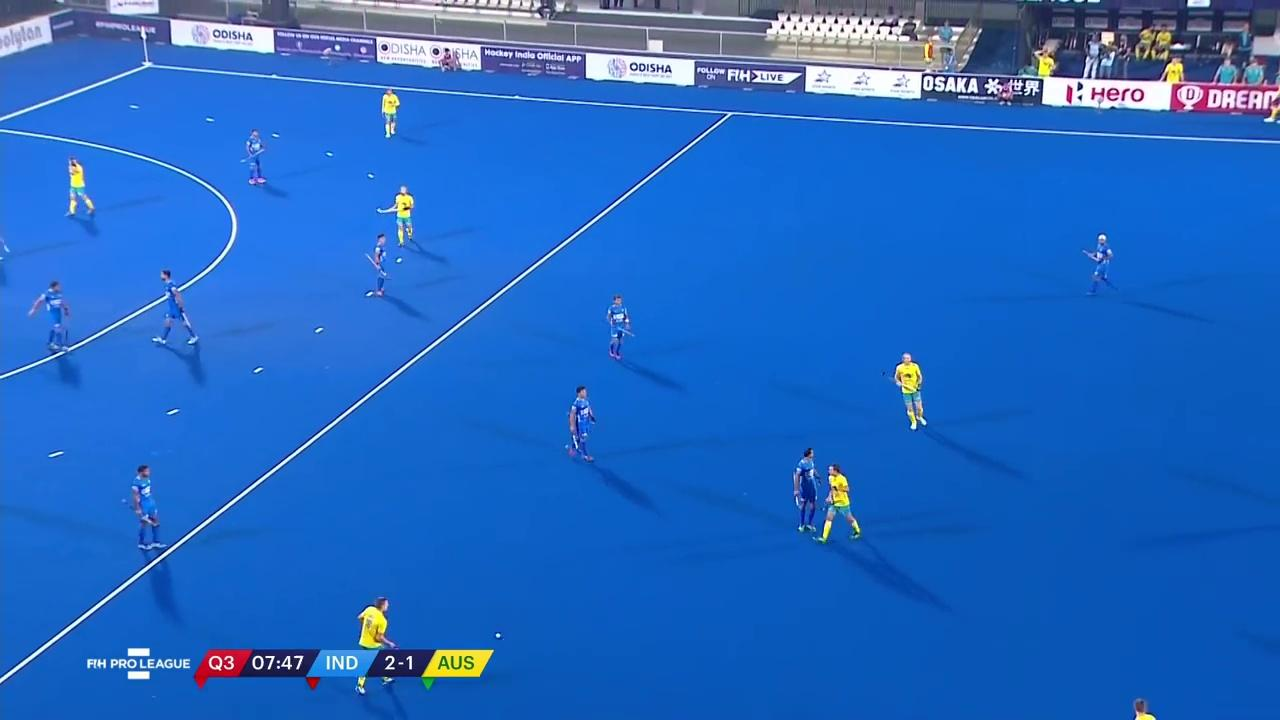ball: (491, 629, 507, 641)
